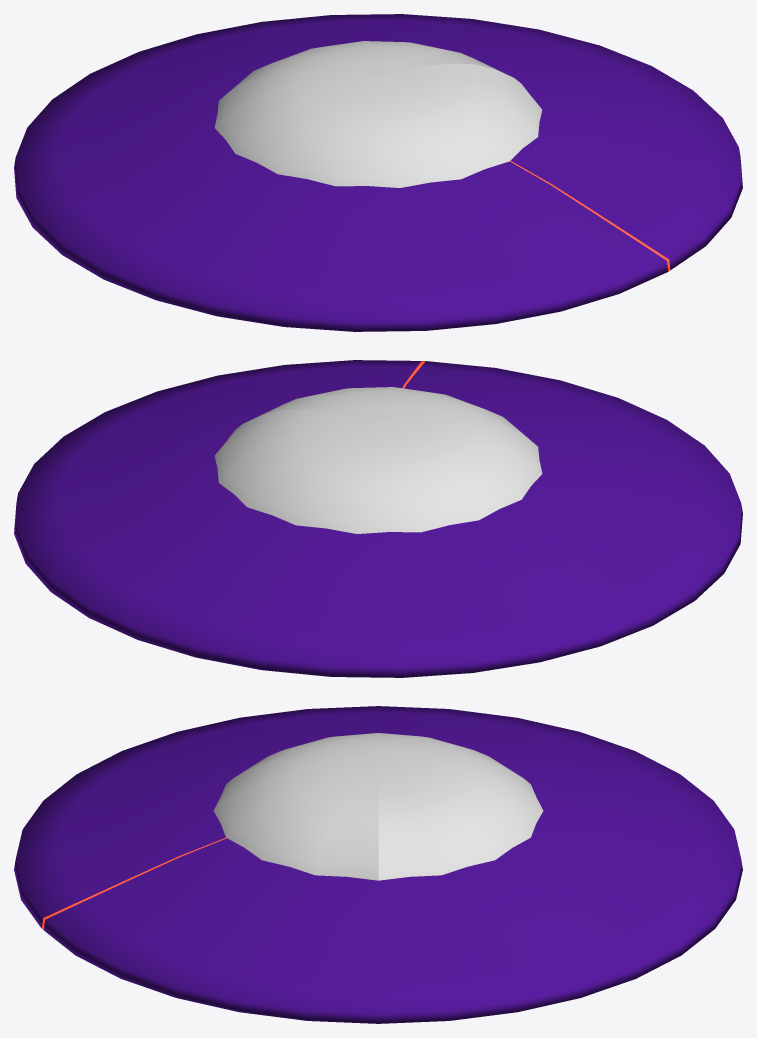
File: ufo-v4.glb
3 renders of one model, top to bottom at view 1: azimuth 30°, elevation 25°; view 2: azimuth 150°, elevation 25°; view 3: azimuth 270°, elevation 25°, orthographic.
Parts seen in each view (by area): view 1: lid, top; view 2: lid, top; view 3: lid, top.
Part boxes in pixels (box(x1,y1,x2,y2)): lid: box(14, 14, 742, 331); top: box(214, 41, 542, 187); lid: box(14, 360, 742, 677); top: box(214, 387, 542, 533); lid: box(14, 706, 742, 1023); top: box(213, 733, 543, 880).
Bounding box in the file's own units: 1.61 × 0.5185 × 1.61.
